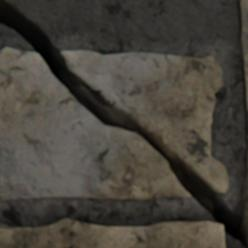brick: (0, 219, 225, 247), (239, 0, 247, 131), (242, 174, 247, 243)
broken_brick: (0, 48, 191, 200), (61, 51, 228, 194)
crack: (0, 1, 247, 247)
